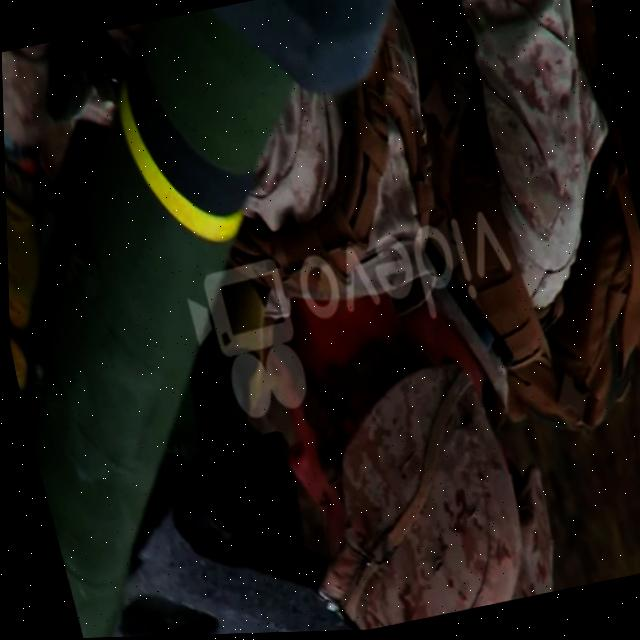rocket: (0, 0, 547, 640)
